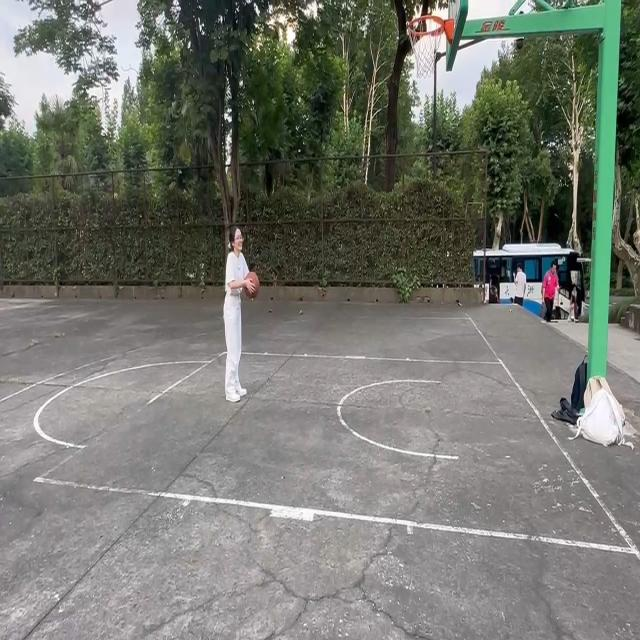basketball: (408, 13, 451, 91)
rim: (245, 271, 260, 297)
